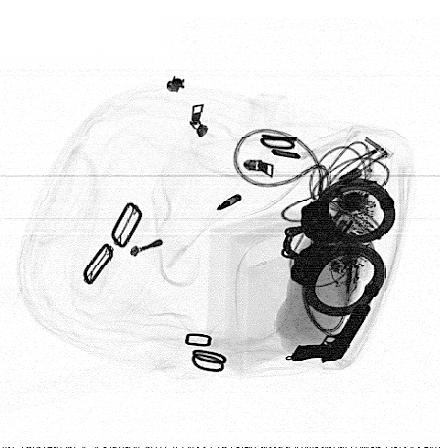Bullet: (216, 194, 242, 211)
Gun: (288, 303, 373, 363)
HandCuffs: (279, 178, 397, 316)
